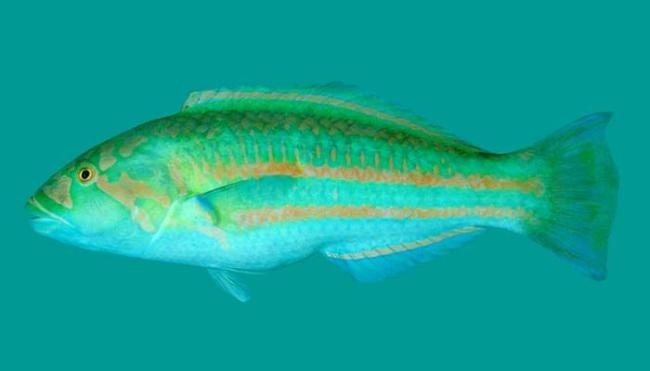fish: (25, 80, 622, 305)
